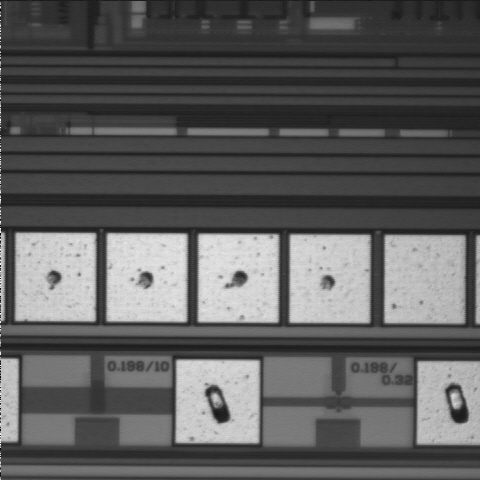pad: (107, 234, 187, 322), (198, 234, 278, 322), (290, 235, 370, 323), (16, 233, 95, 321), (176, 360, 259, 443), (385, 236, 464, 323)
